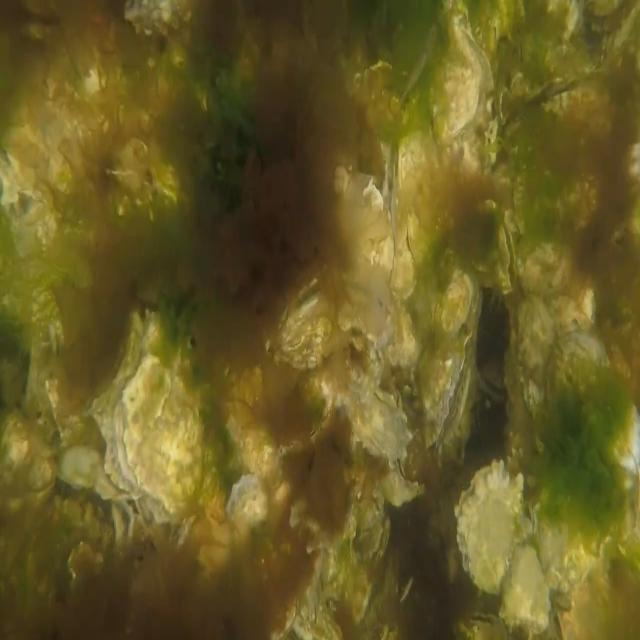Oyster-Closed: (529, 486, 609, 606), (420, 325, 474, 448), (339, 376, 413, 462), (380, 455, 425, 508)
Oyster-Indeterminate: (113, 353, 205, 524), (545, 329, 640, 474), (454, 460, 527, 594), (430, 0, 492, 144), (514, 291, 561, 456), (268, 273, 351, 362), (399, 126, 451, 264), (389, 172, 417, 300), (438, 259, 477, 337), (224, 471, 268, 533)
Oyster-Open: (498, 220, 518, 292)
